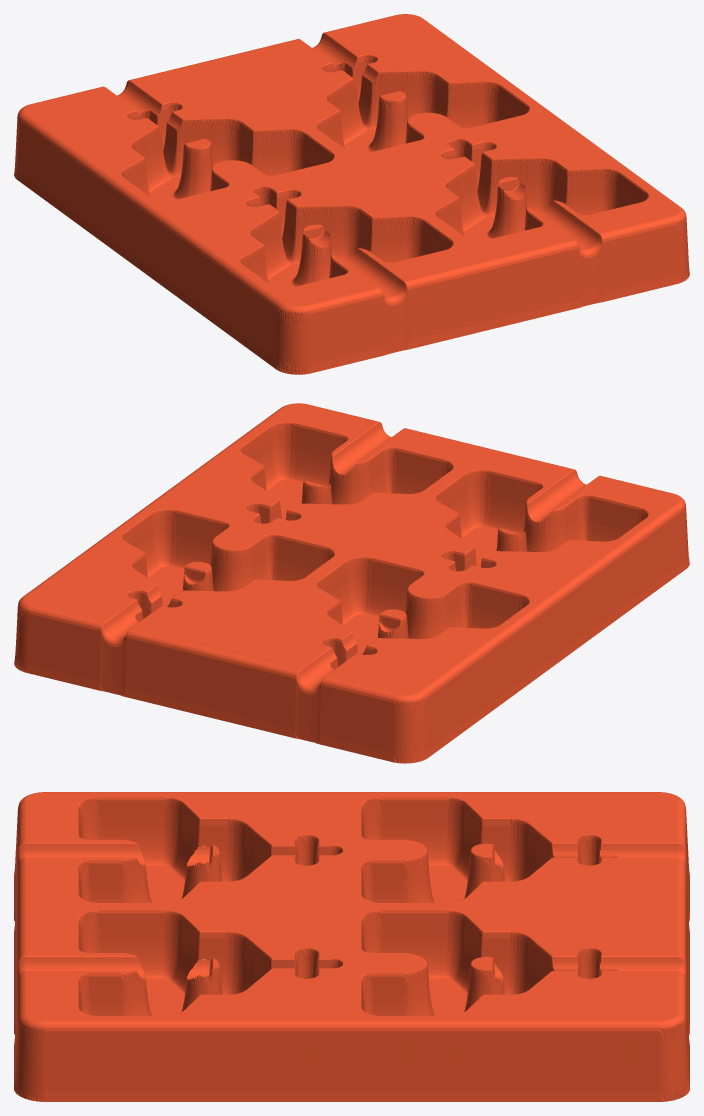
The model's file is mold.glb.
The picture shows the model from 3 angles, top to bottom: view 1: azimuth 30°, elevation 25°; view 2: azimuth 150°, elevation 25°; view 3: azimuth 270°, elevation 25°; orthographic projection. The views are drawn at different scales.
Visible parts, largest first — view 1: geometry_0; view 2: geometry_0; view 3: geometry_0.
Part boxes in pixels (box(x1,y1,x2,y2)): geometry_0: box(14, 14, 689, 374); geometry_0: box(14, 403, 689, 763); geometry_0: box(14, 792, 689, 1101).
Size of the model in its own units: 0.164 by 0.0245 by 0.1968.
